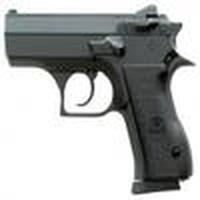gun: (2, 7, 200, 198)
